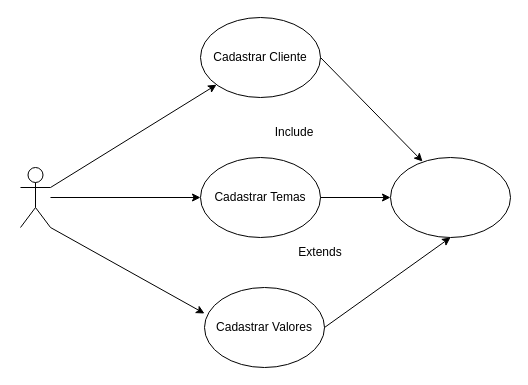
Some shapes in this 528 by 385 pixel diagram are drawn without their labels. Here are the shapes that lost their labels. From the top down, the centre of each, then its label:
At (35,197): "Cliente".
At (450,197): "Controlar Aluguel".
